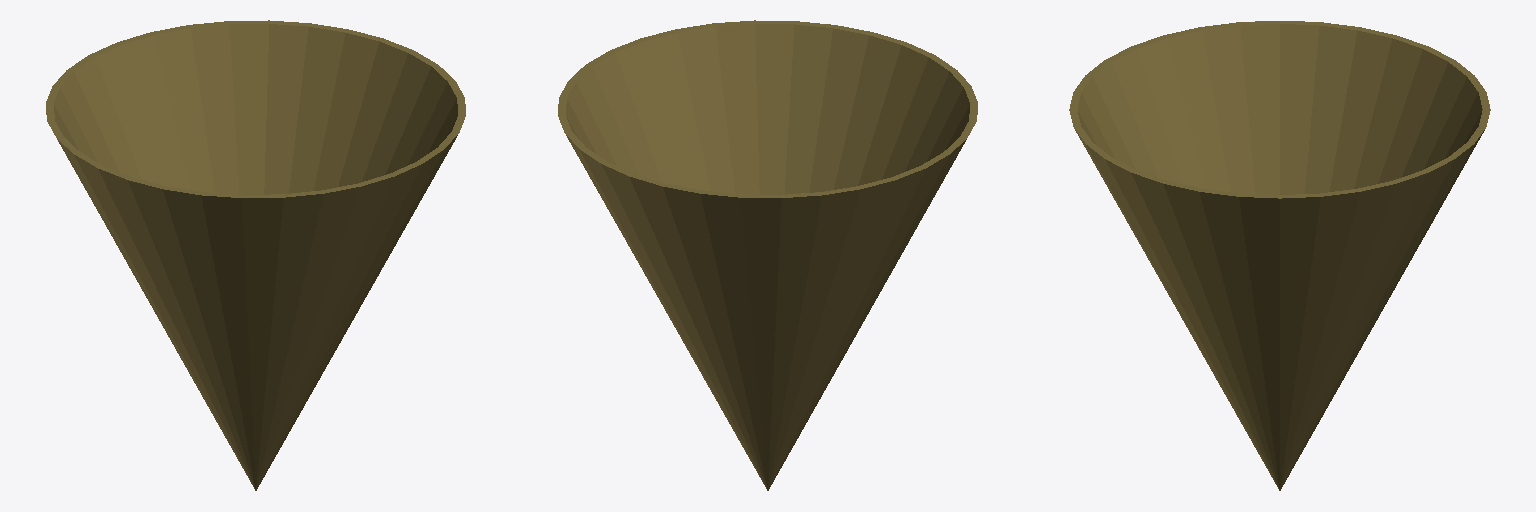
URDF robot description (object):
<?xml version="1.0"?>
<robot name="object">
  <link name="base_link"> <!-- required name-->
    <inertial>
      <origin xyz="0 0 0" /> 
      <mass value="1.0" />
      <inertia  ixx="1.0" ixy="0.0"  ixz="0.0"  iyy="1.0"  iyz="0.0"  izz="1.0" />
    </inertial>
    <visual>
      <origin xyz="0 0 0"/>
      <geometry>
        <!-- cone1 is slightly larger than a cone defined for mu = 0.5 -->
        <mesh filename="package://hpp-rbprm-corba/meshes/cones/cone.dae"/>
      </geometry>
    </visual>
  </link>
</robot>

--- Facts derived from the render (not from the file) ---
The picture shows the robot from 3 angles, left to right: view 1: azimuth 30°, elevation 25°; view 2: azimuth 150°, elevation 25°; view 3: azimuth 270°, elevation 25°; orthographic projection.
Robot: object — 1 links, 0 joints (none); root link base_link; default pose: all joints at 0.
Links seen in each view (by area): view 1: base_link; view 2: base_link; view 3: base_link.
Link boxes in pixels (<box>): base_link: <box>46,20,465,490</box>; base_link: <box>558,20,977,490</box>; base_link: <box>1069,21,1490,490</box>.
Bounding box of the posed robot: 0.391 × 0.391 × 0.391 m (x, y, z).
Meshes: 1 distinct files referenced, 1 mesh visuals loaded (1 Collada DAE).